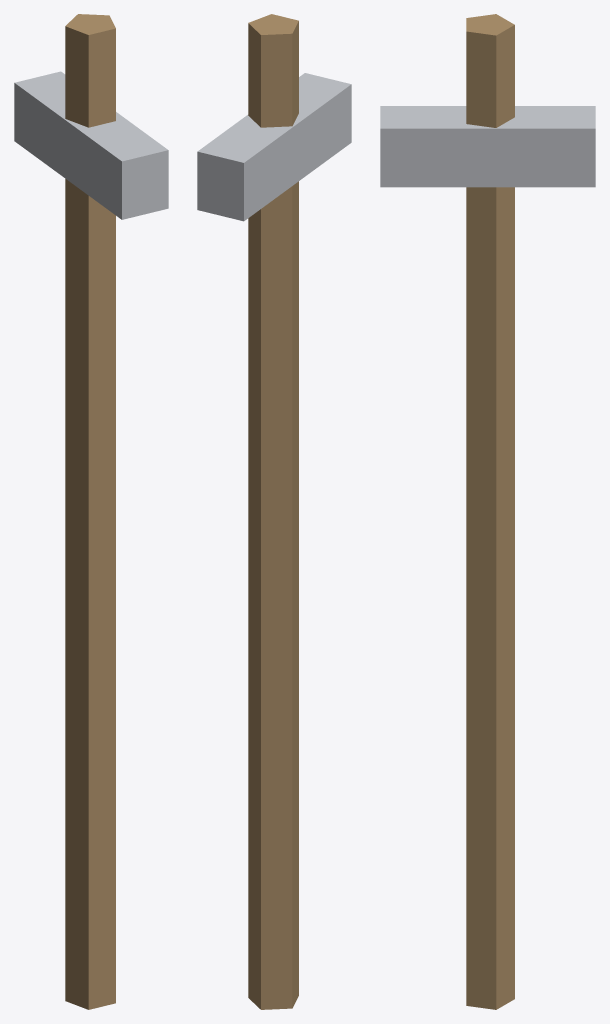
Rendered from toy_bow_sword.glb.
The picture shows the model from 3 angles, left to right: view 1: azimuth 30°, elevation 25°; view 2: azimuth 150°, elevation 25°; view 3: azimuth 270°, elevation 25°; orthographic projection.
Visible parts, largest first — view 1: cyl, box; view 2: cyl, box; view 3: cyl, box.
Part boxes in pixels (bbox=[...]): cyl: bbox=[65, 14, 115, 1009]; box: bbox=[14, 71, 168, 219]; cyl: bbox=[248, 14, 298, 1009]; box: bbox=[197, 73, 351, 221]; cyl: bbox=[466, 14, 514, 1009]; box: bbox=[380, 106, 595, 187].
Bounding box in the file's own units: 0.02 × 0.4 × 0.08.
